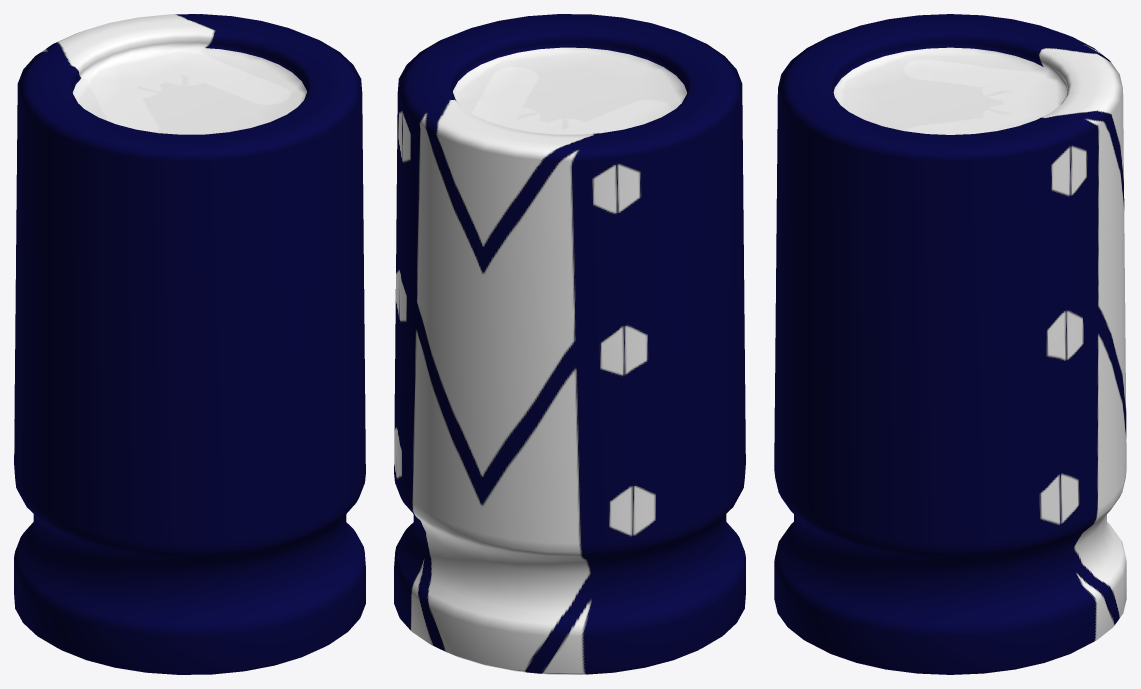
The model's file is Capacitor.fbx.
3 renders of one model, left to right at view 1: azimuth 30°, elevation 25°; view 2: azimuth 150°, elevation 25°; view 3: azimuth 270°, elevation 25°, orthographic.
Parts seen in each view (by area): view 1: Capacitor; view 2: Capacitor; view 3: Capacitor.
Boxes of the visible parts, x1,y1,x2,y2 form: Capacitor: (14,14,365,674); Capacitor: (394,14,745,674); Capacitor: (774,14,1126,674).
Size of the model in its own units: 0.0688 by 0.1125 by 0.0688.
1 material, 1 textured.
